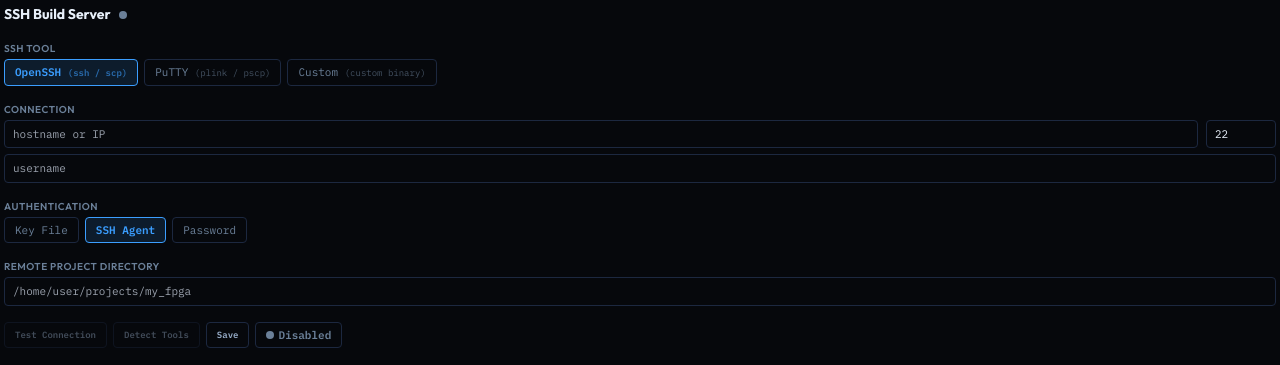
Test: SshPanel › shows Enable/Disable toggle
Click the text "Disabled": {"x": 299, "y": 335} [255,322,342,348]
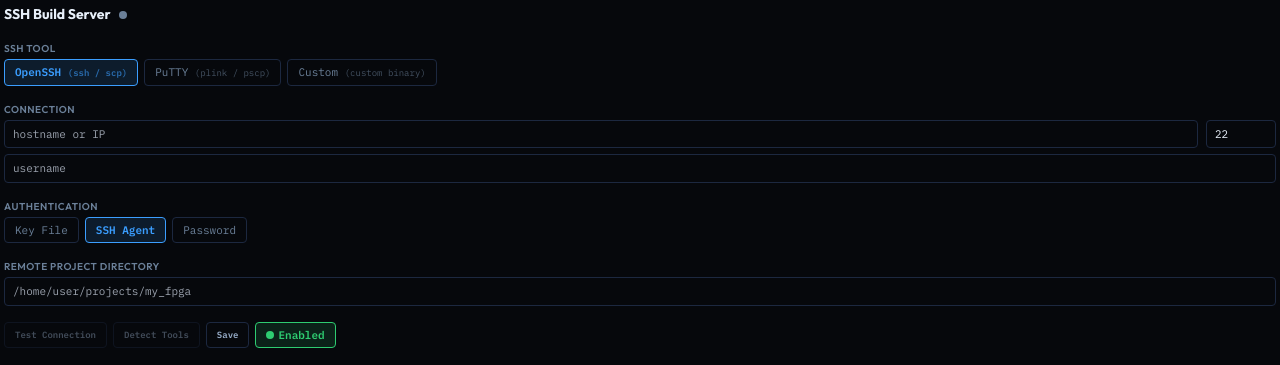
Check: the text "Enabled" is shown, box [255,322,336,348]
